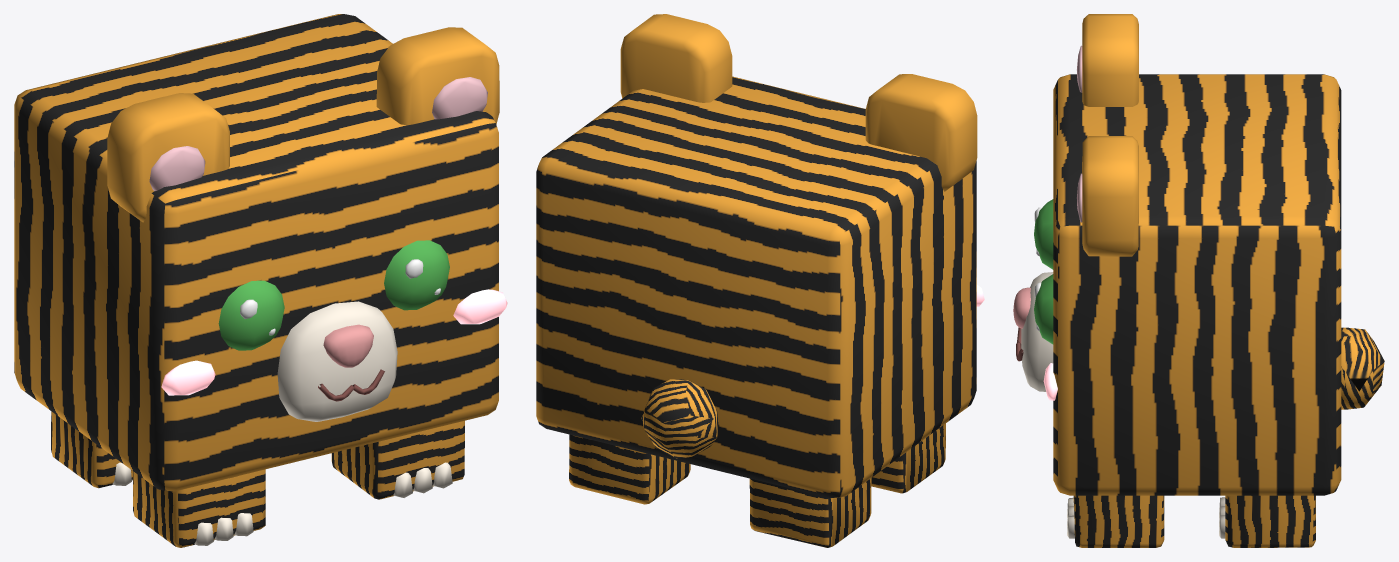
Rendered from Bear_Tigerbaer.fbx.
3 renders of one model, left to right at view 1: azimuth 30°, elevation 25°; view 2: azimuth 150°, elevation 25°; view 3: azimuth 270°, elevation 25°, orthographic. The views are drawn at different scales.
Parts seen in each view (by area): view 1: Tigerbaer_body, Tigerbaer_ears, Tigerbaer_feet, Tigerbaer_muzzle, Tigerbaer_eyes, Bear_Tigerbaer, Tigerbaer_toes, Bear_Tigerbaer_cute_innerear_-1, Tigerbaer_nose, Bear_Tigerbaer_cute_blush_-1; view 2: Tigerbaer_body, Tigerbaer_ears, Tigerbaer_feet, Bear_Tigerbaer_cute_tail; view 3: Tigerbaer_body, Tigerbaer_ears, Tigerbaer_feet, Bear_Tigerbaer_cute_tail, Tigerbaer_eyes, Tigerbaer_muzzle, Bear_Tigerbaer, Tigerbaer_toes, Tigerbaer_nose.
Boxes of the visible parts, x1=… form: Tigerbaer_body: x1=14, y1=14, x2=498, y2=491; Tigerbaer_ears: x1=107, y1=27, x2=499, y2=222; Tigerbaer_feet: x1=51, y1=411, x2=464, y2=547; Tigerbaer_muzzle: x1=277, y1=301, x2=397, y2=421; Tigerbaer_eyes: x1=218, y1=240, x2=449, y2=350; Bear_Tigerbaer: x1=405, y1=77, x2=507, y2=324; Tigerbaer_toes: x1=112, y1=462, x2=452, y2=545; Bear_Tigerbaer_cute_innerear_-1: x1=149, y1=146, x2=205, y2=191; Tigerbaer_nose: x1=323, y1=324, x2=373, y2=367; Bear_Tigerbaer_cute_blush_-1: x1=161, y1=360, x2=215, y2=395; Tigerbaer_body: x1=536, y1=76, x2=976, y2=498; Tigerbaer_ears: x1=620, y1=14, x2=977, y2=191; Tigerbaer_feet: x1=569, y1=423, x2=945, y2=547; Bear_Tigerbaer_cute_tail: x1=641, y1=379, x2=718, y2=458; Tigerbaer_body: x1=1053, y1=74, x2=1341, y2=495; Tigerbaer_ears: x1=1082, y1=14, x2=1138, y2=256; Tigerbaer_feet: x1=1073, y1=495, x2=1315, y2=547; Bear_Tigerbaer_cute_tail: x1=1341, y1=327, x2=1384, y2=409; Tigerbaer_eyes: x1=1034, y1=199, x2=1053, y2=344; Tigerbaer_muzzle: x1=1021, y1=272, x2=1053, y2=391; Bear_Tigerbaer: x1=1034, y1=173, x2=1082, y2=400; Tigerbaer_toes: x1=1067, y1=497, x2=1225, y2=538; Tigerbaer_nose: x1=1013, y1=287, x2=1030, y2=328.
Bounding box in the file's own units: 2.35 × 2.61 × 2.21.
Materials: 12 (3 with a texture image).
